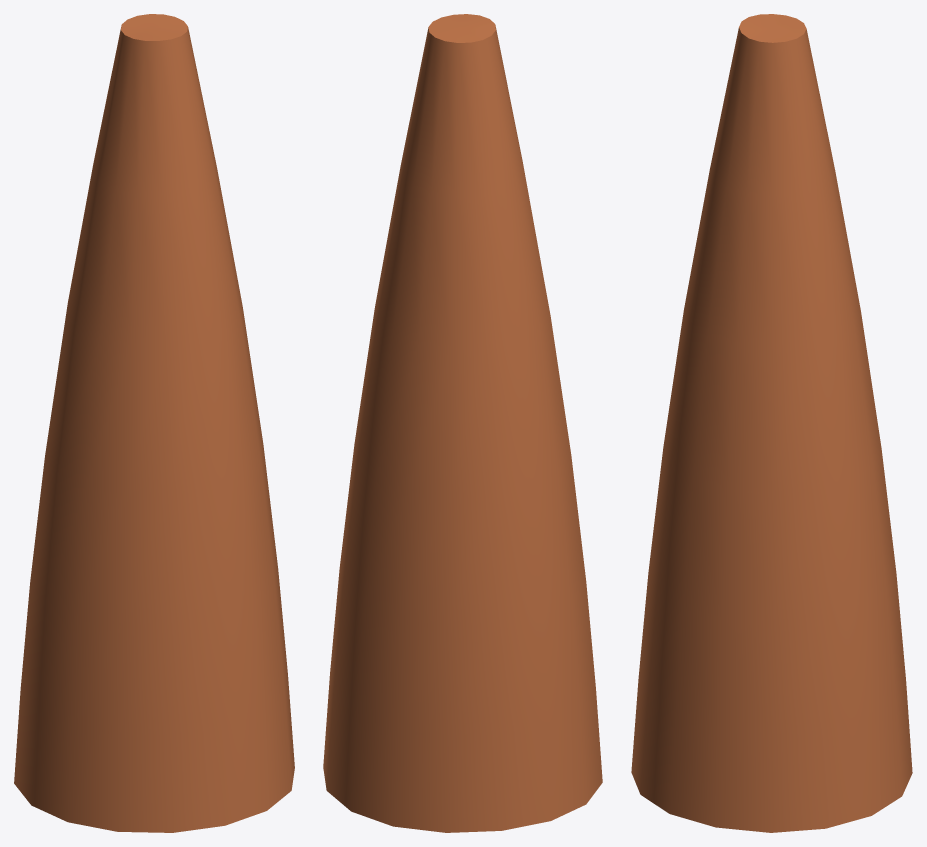
Rendered from Bullet.fbx.
The picture shows the model from 3 angles, left to right: view 1: azimuth 30°, elevation 25°; view 2: azimuth 150°, elevation 25°; view 3: azimuth 270°, elevation 25°; orthographic projection.
Parts seen in each view (by area): view 1: bullet; view 2: bullet; view 3: bullet.
Part boxes in pixels (<box>): bullet: <box>14,14,294,832</box>; bullet: <box>323,14,602,832</box>; bullet: <box>631,14,912,832</box>.
Bounding box in the file's own units: 0.5999 × 1.75 × 0.5966.
